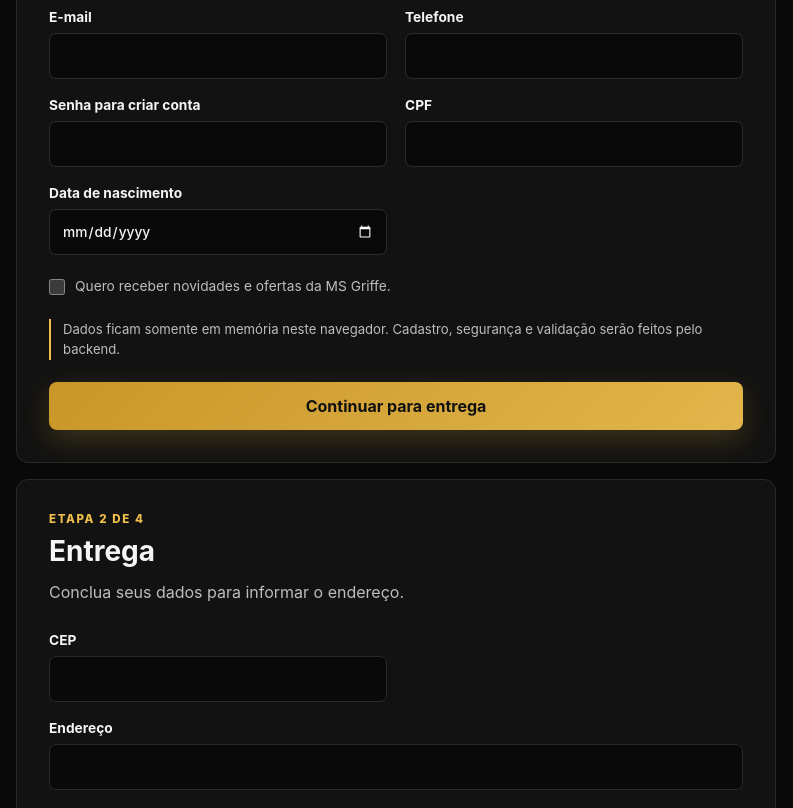
Test: CheckoutPage › mantém os dados de identificação em memória e informa os limites da simulação
The image size is (793, 808).
(page scrolled)
Click the button "Continuar para entrega".
click(396, 406)  # box [49,382,743,430]
(page scrolled)
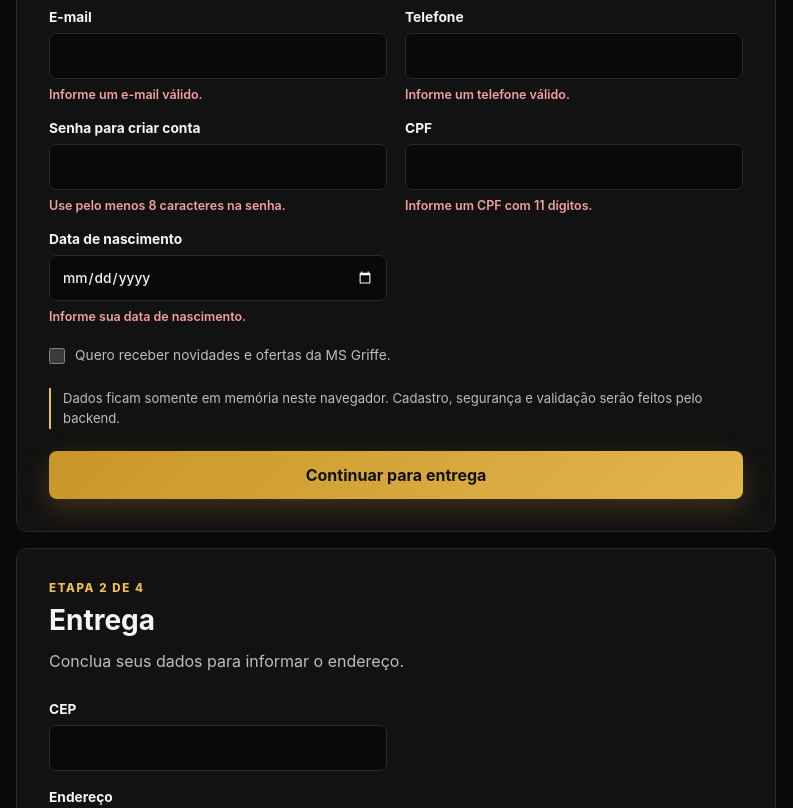
Expected: the text "somente em memória" is shown, [63,390,702,426]
Now the number of messages is 6
